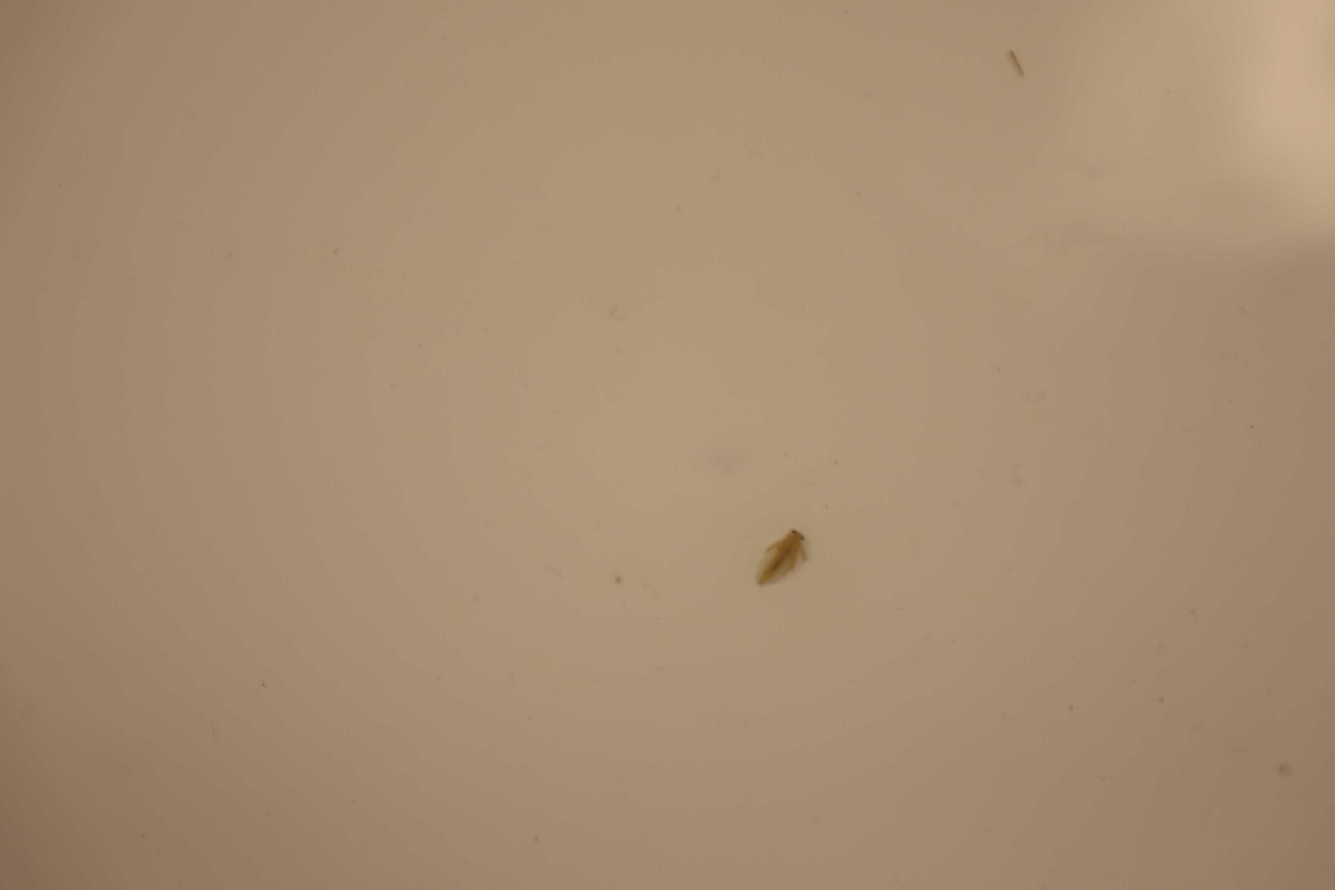Mayfly: (753, 530, 807, 586)
